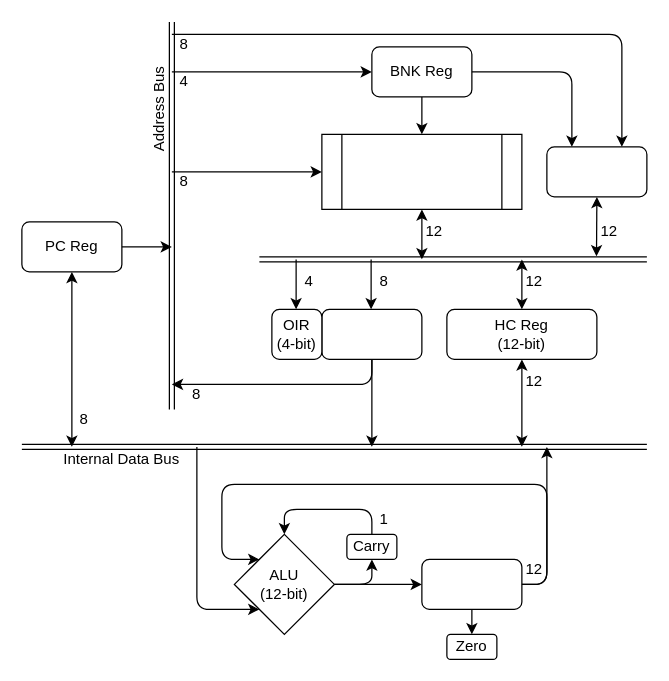
This 669x681 diagram has some shape labels left out. Here are the shapes that lost their labels. From the top down, the centre of each, then its label:
(421,171): Memory 16 banks 12-bit words 256 words / bank
(596,171): IO Device (Ex. MUX)
(371,333): AIR Reg (8-bit)
(471,583): AC Reg (12-bit)
